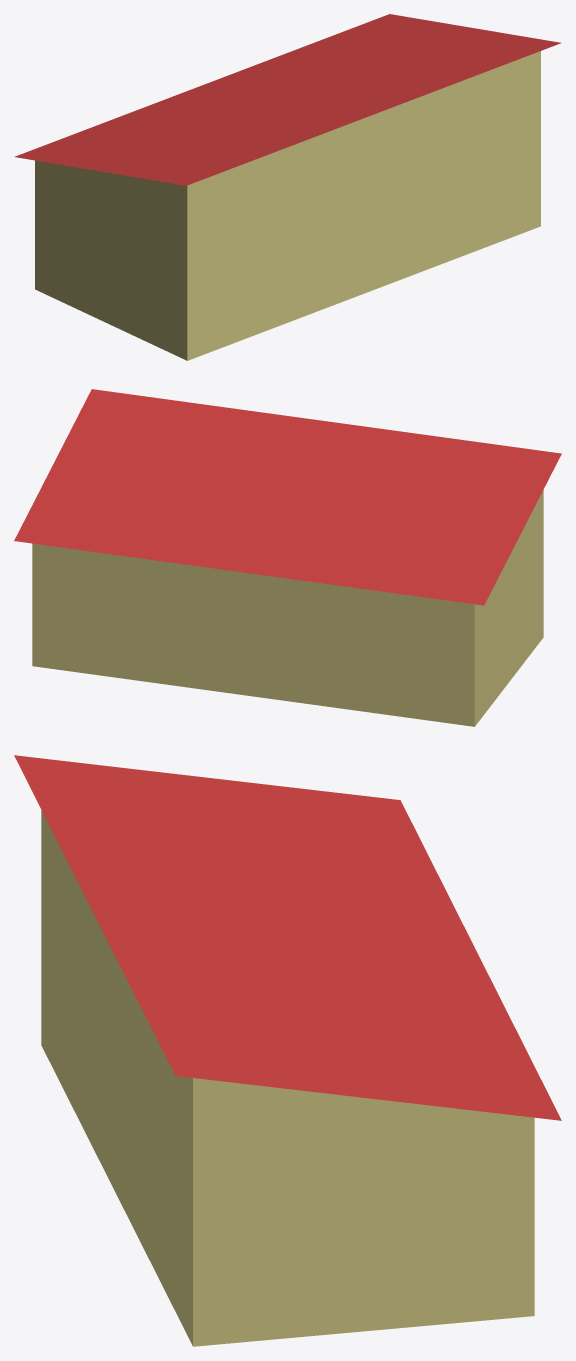
3 views of the same model, one above another, from view 1: azimuth 30°, elevation 25°; view 2: azimuth 150°, elevation 25°; view 3: azimuth 270°, elevation 25° (orthographic). The views are drawn at different scales.
Bounding box in the file's own units: 27.5 × 17.92 × 10.18.
